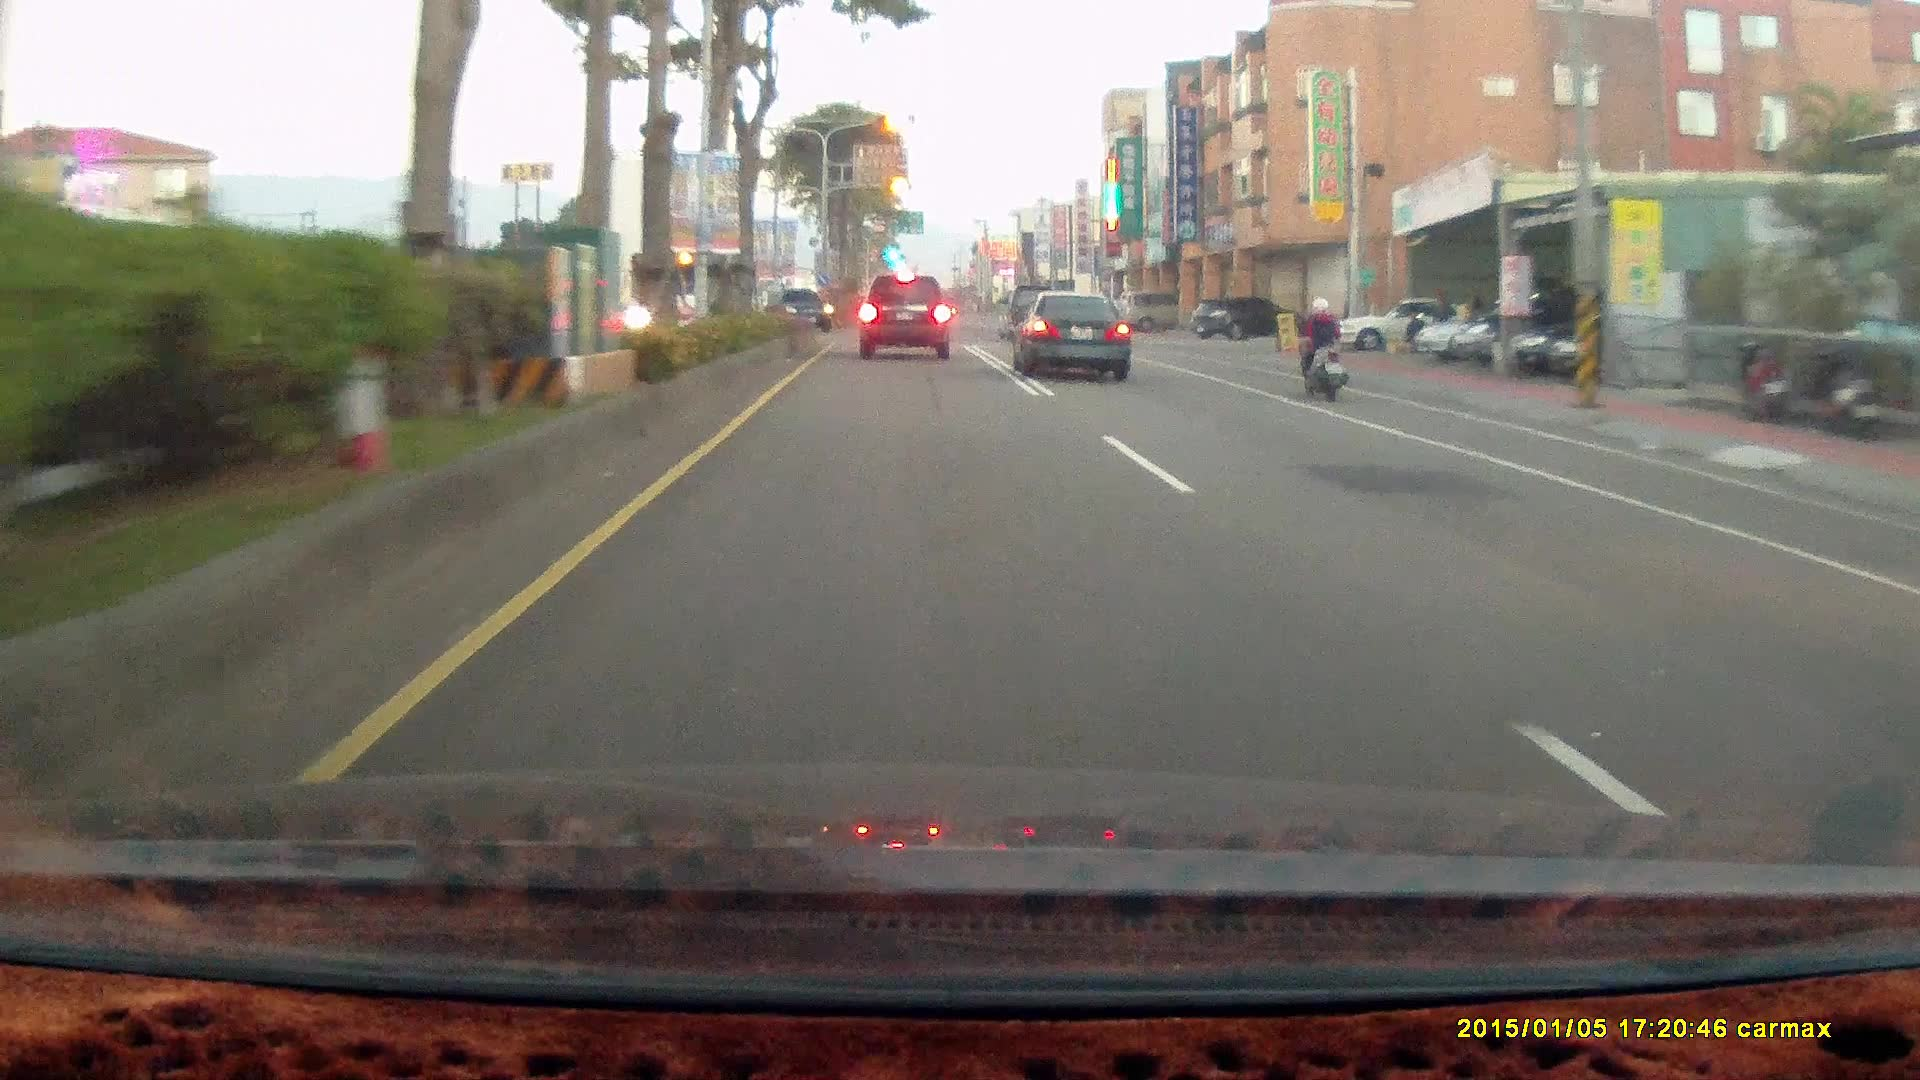pedestrian: (1434, 288, 1455, 345)
rider: (1284, 287, 1359, 412), (1291, 292, 1349, 400)
vehicle: (1546, 305, 1717, 385), (1504, 300, 1675, 376), (1451, 289, 1604, 364), (1008, 289, 1131, 380), (1021, 289, 1135, 385), (1324, 290, 1489, 356), (860, 269, 956, 359), (1415, 305, 1550, 364), (857, 273, 950, 359), (1329, 296, 1465, 350), (1187, 295, 1294, 342), (1195, 296, 1292, 345), (1117, 288, 1200, 331), (994, 283, 1059, 337), (768, 288, 835, 336), (768, 287, 834, 330)
